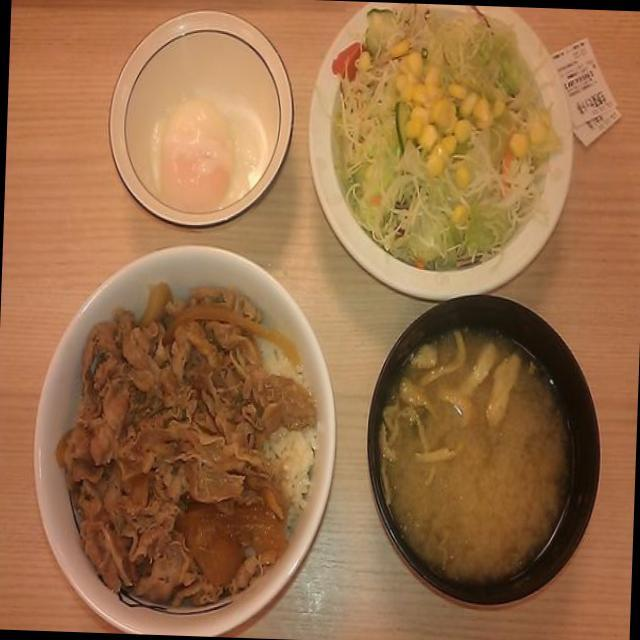Green Salad: (332, 0, 552, 254)
